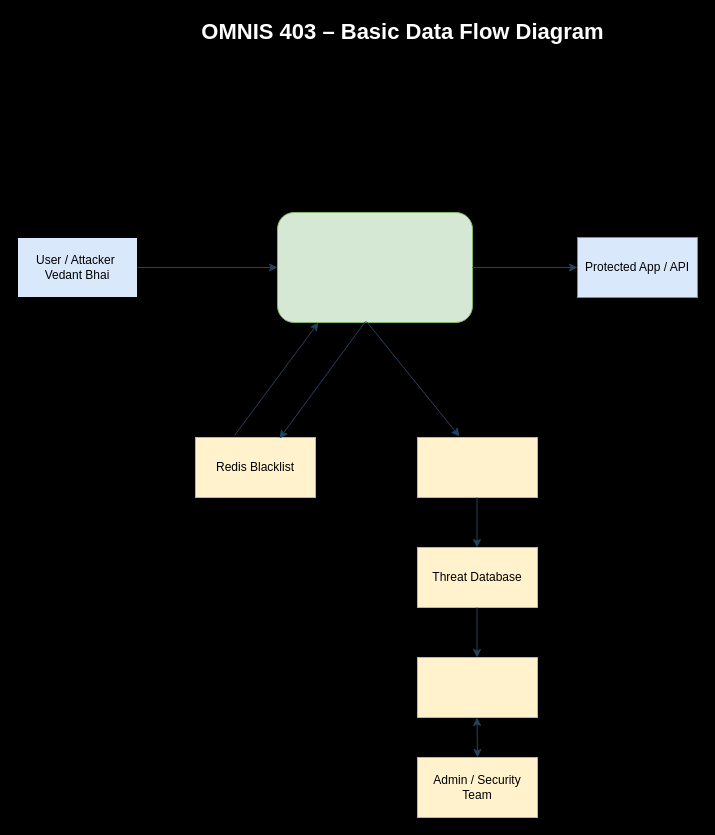
This 715x835 diagram has some shape labels left out. Each missing label, with the centre of its shape:
Admin Dashboard: pixel 477 687
Kafka / Event Queue: pixel 477 467
OMNIS 403 System: pixel 374 267
